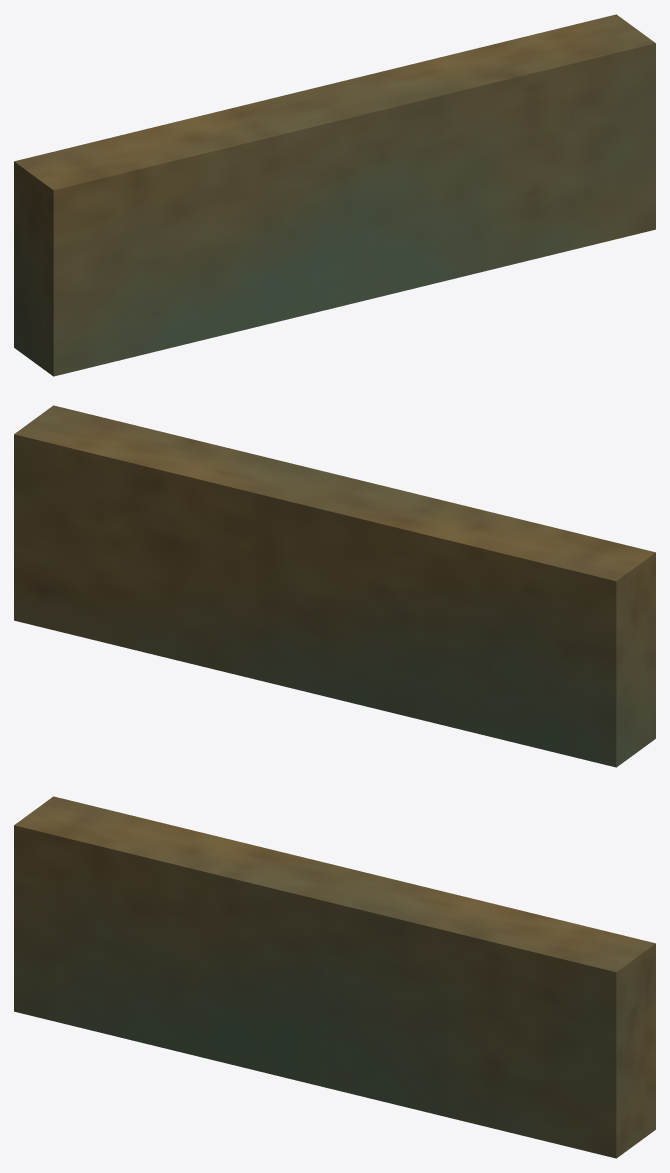
Rendered from Attendant bench bronze plate__n54.glb.
3 renders of one model, top to bottom at view 1: azimuth 30°, elevation 25°; view 2: azimuth 150°, elevation 25°; view 3: azimuth 330°, elevation 25°, orthographic.
Parts seen in each view (by area): view 1: Attendant bench bronze plate; view 2: Attendant bench bronze plate; view 3: Attendant bench bronze plate.
Boxes of the visible parts, x1,y1,x2,y2 form: Attendant bench bronze plate: [14, 14, 655, 376]; Attendant bench bronze plate: [14, 405, 655, 767]; Attendant bench bronze plate: [14, 796, 655, 1158].
Bounding box in the file's own units: 0.22 × 0.065 × 0.025.
1 material, 1 textured.
